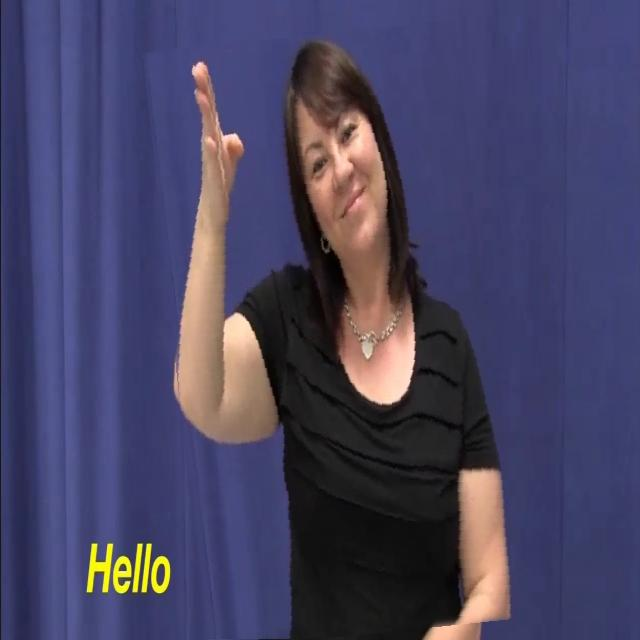Hello: (158, 27, 502, 640)
